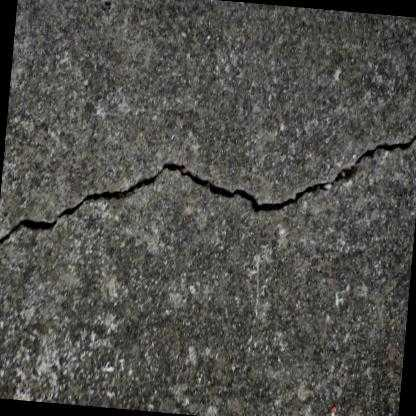crack: (0, 134, 416, 243)
